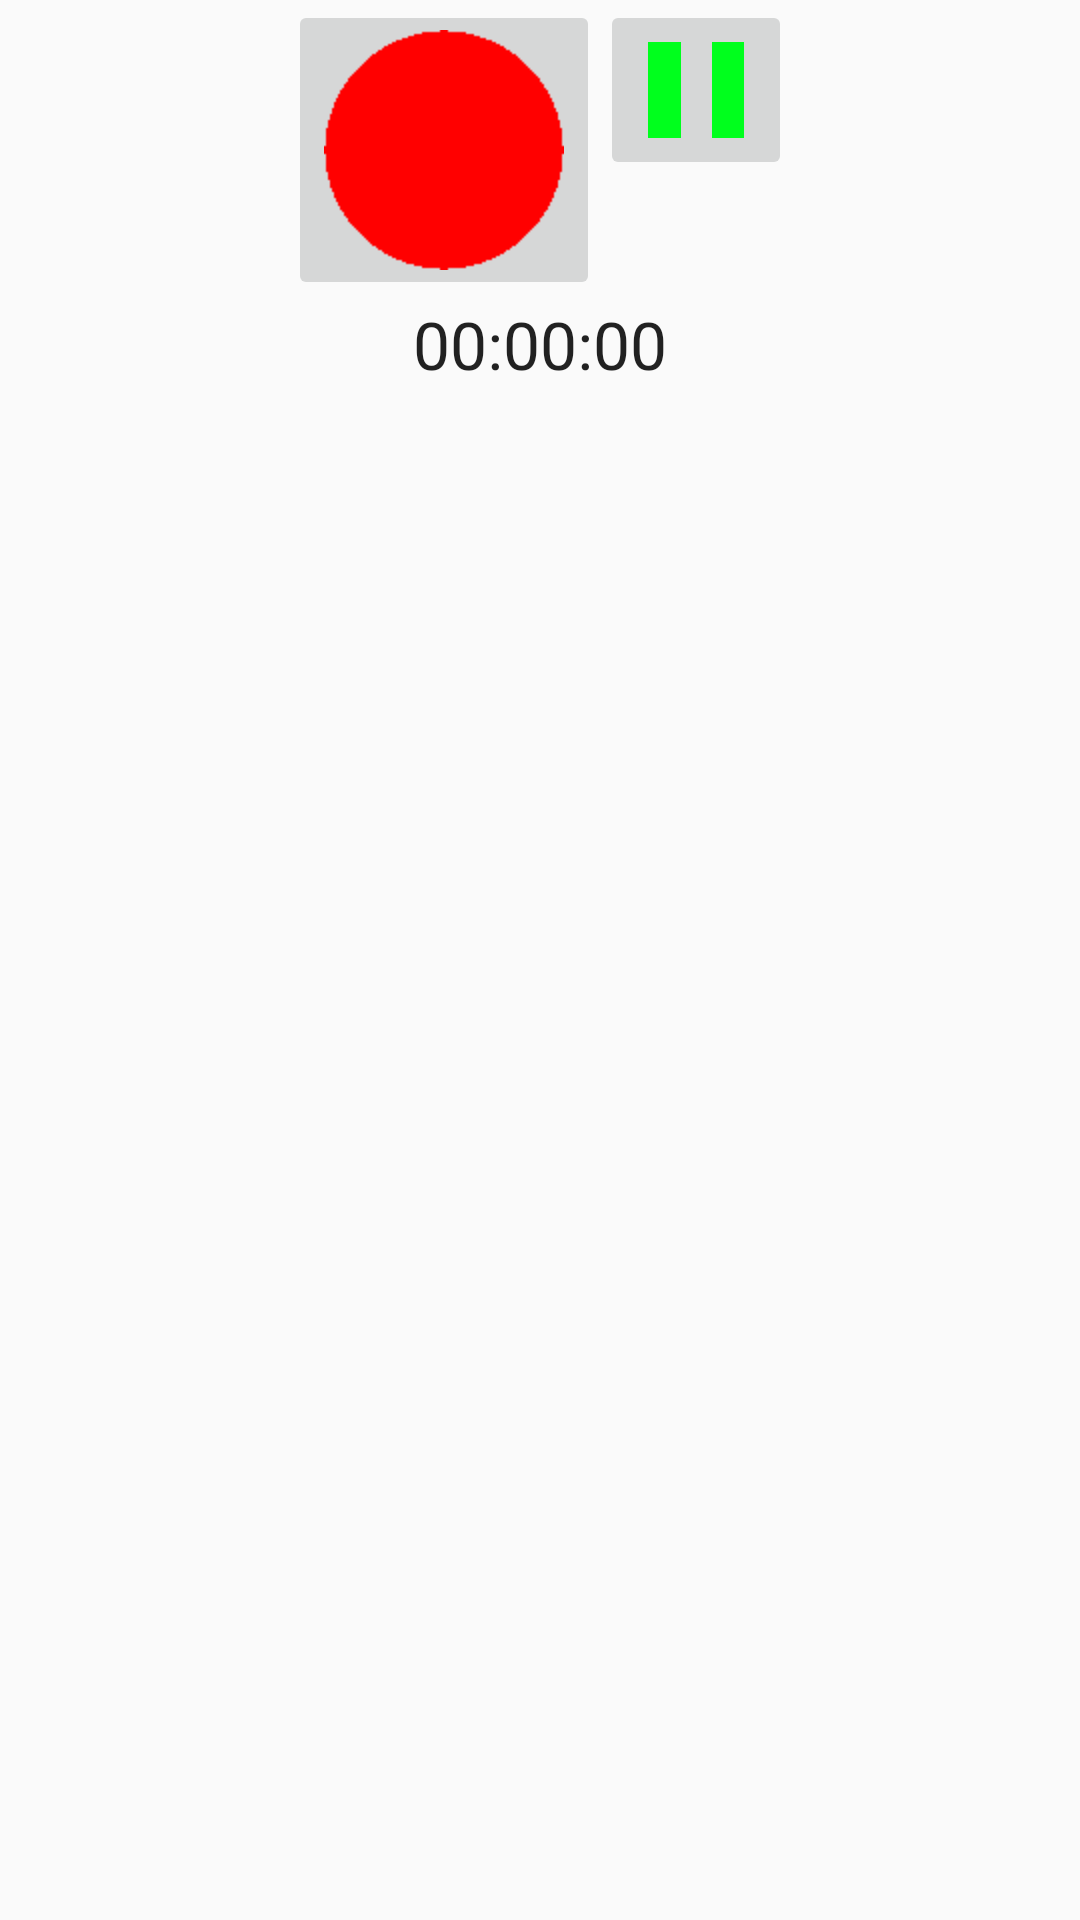

Where to tap for icons on this 1080px×1920px app screen, as (x=x, y=y):
pausebutton: (x=696, y=90)
recbutton: (x=444, y=150)
